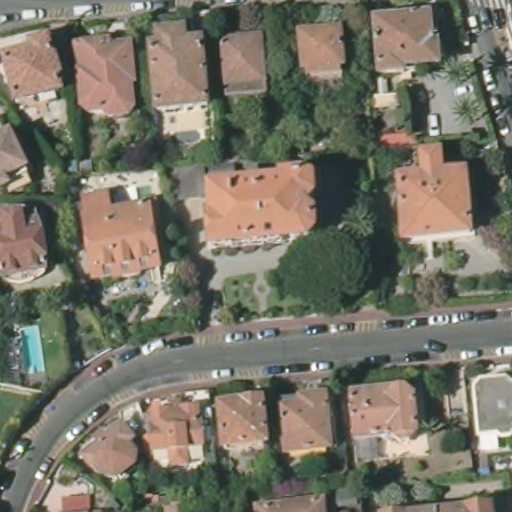pool: (14, 321, 48, 379)
